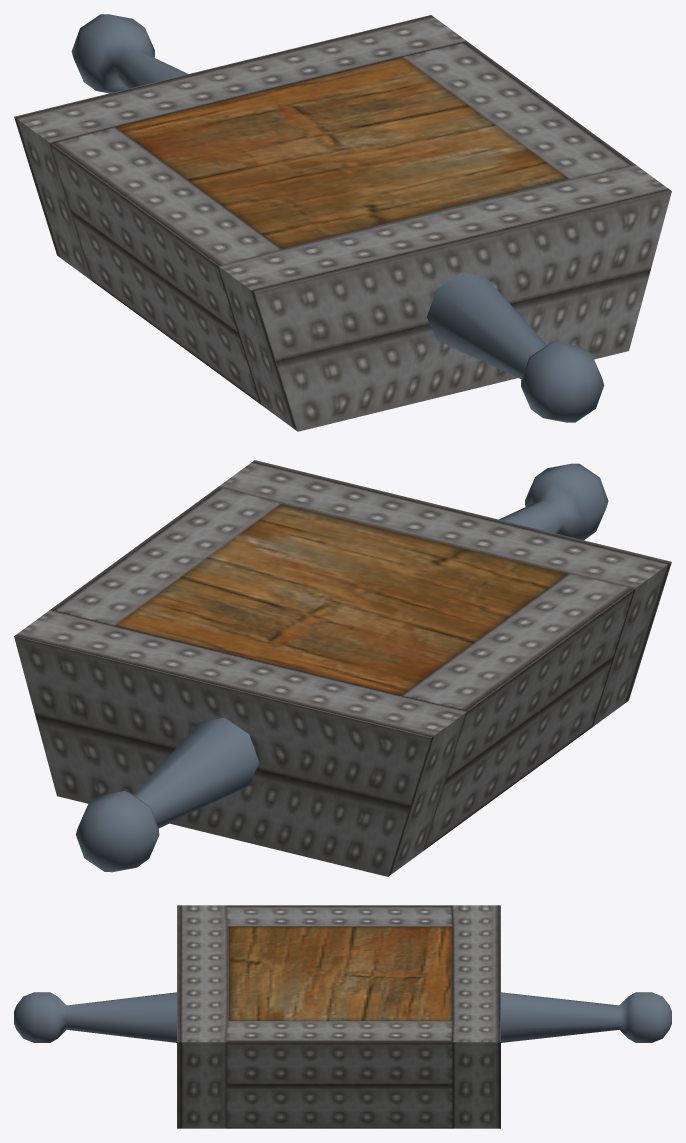
File: P_Modul_41.obj
The picture shows the model from 3 angles, top to bottom: view 1: azimuth 30°, elevation 25°; view 2: azimuth 150°, elevation 25°; view 3: azimuth 270°, elevation 25°; orthographic projection. The views are drawn at different scales.
Parts seen in each view (by area): view 1: P_Modul_41; view 2: P_Modul_41; view 3: P_Modul_41.
Part boxes in pixels (<box>): P_Modul_41: <box>14,14,671,431</box>; P_Modul_41: <box>14,460,671,876</box>; P_Modul_41: <box>14,905,671,1128</box>.
Bounding box in the file's own units: 5 × 1.71 × 10.15.
